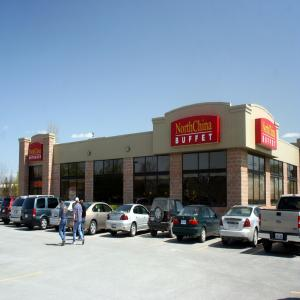Vehicle-registration-plate: (276, 235, 284, 241), (182, 220, 188, 226), (231, 224, 237, 230), (151, 217, 155, 222), (70, 221, 74, 225), (113, 225, 117, 229), (56, 215, 58, 217)
